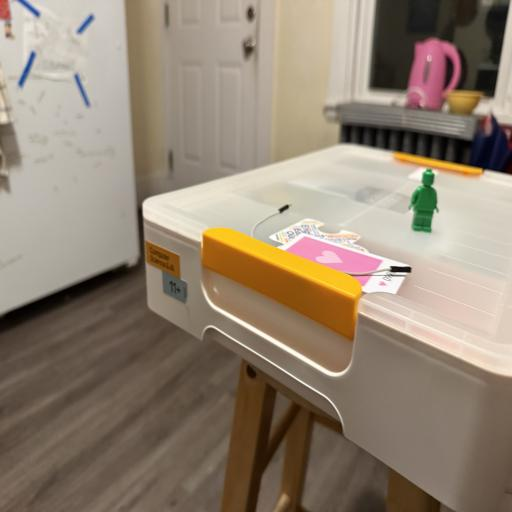Minifig: (409, 169, 438, 232)
